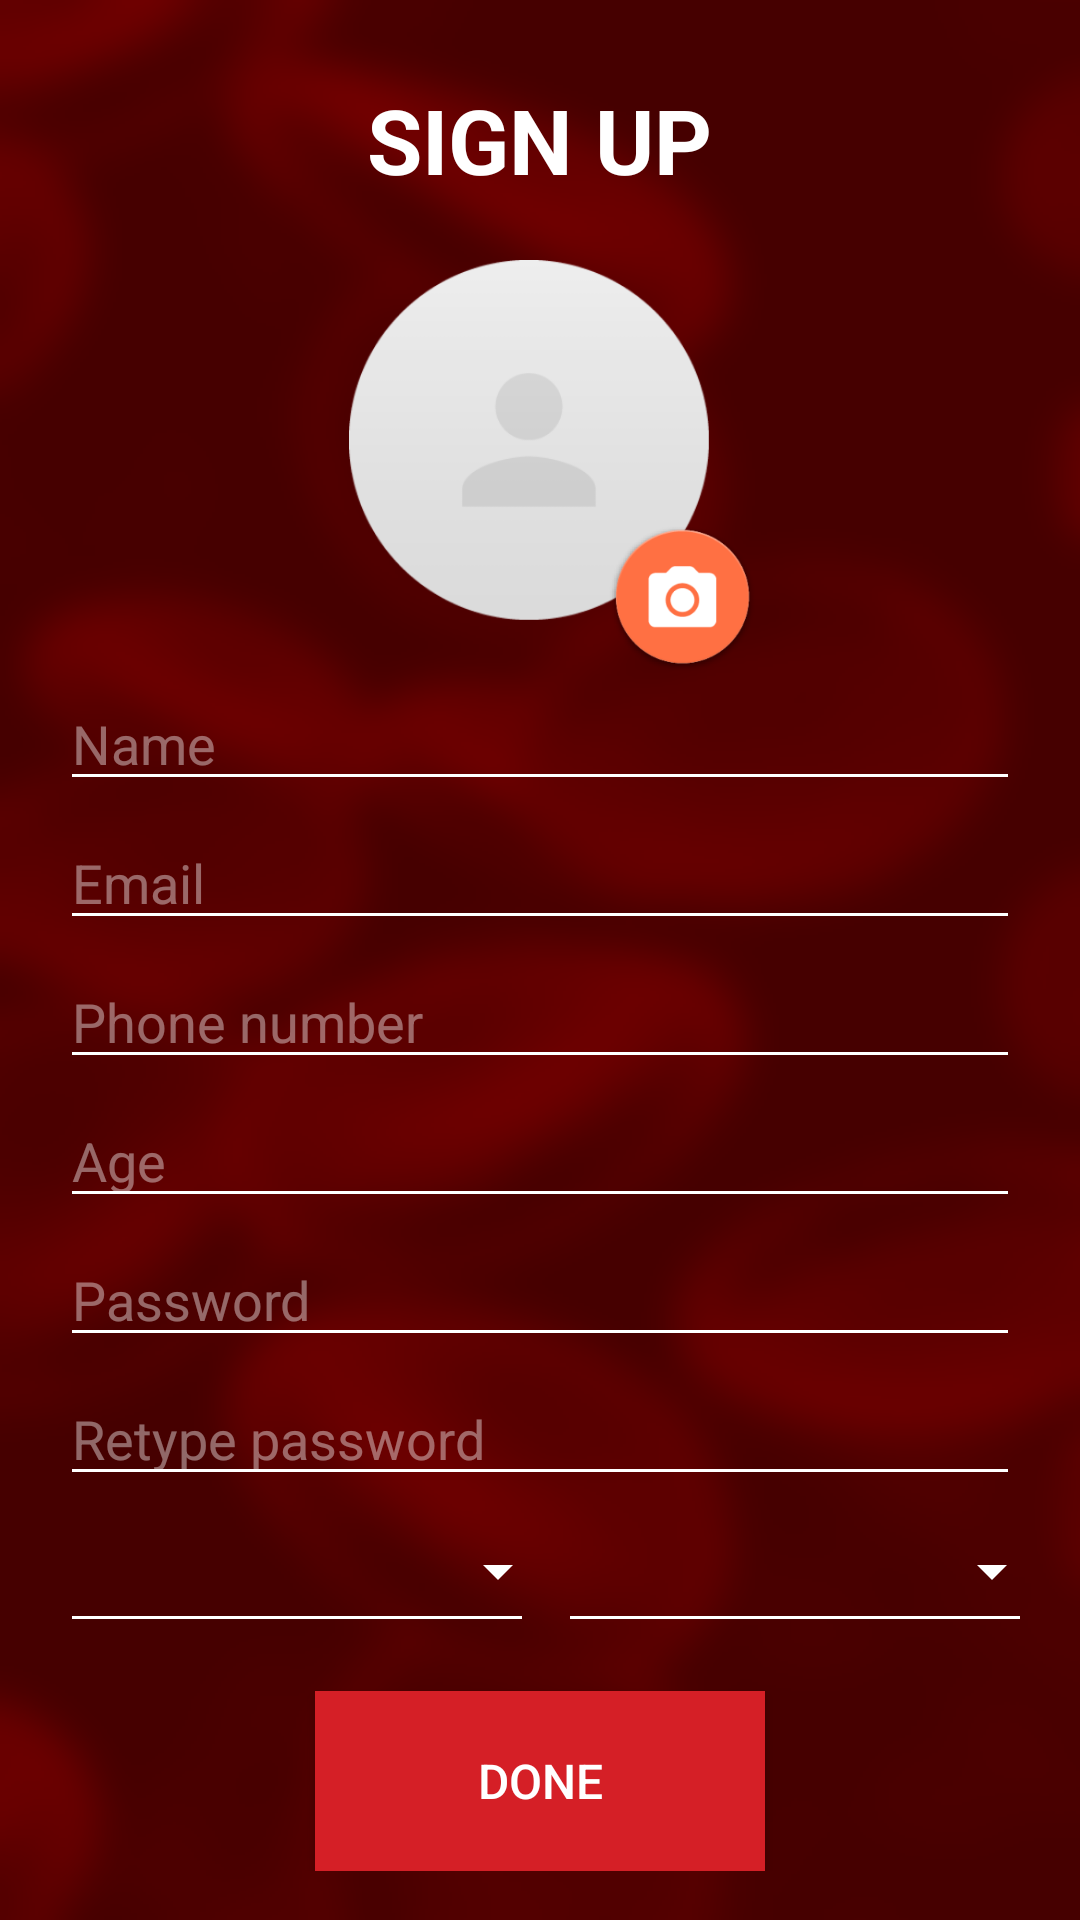

Icons on this 1080 × 1920 Android screen, each with its box as (x1, y1, x2, y2):
camera: (604, 521, 750, 665)
